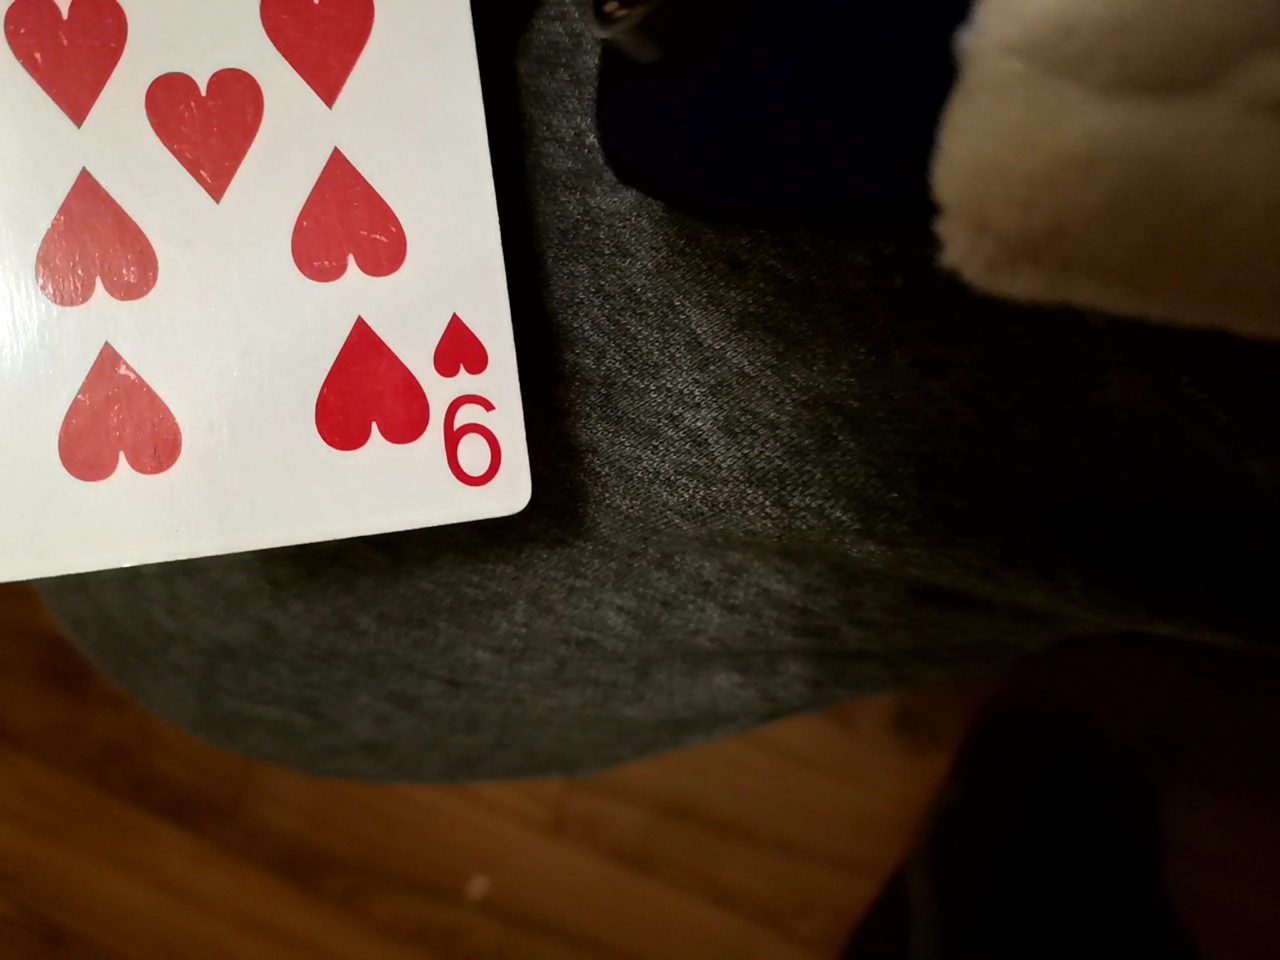hx 9: (0, 0, 543, 598)
